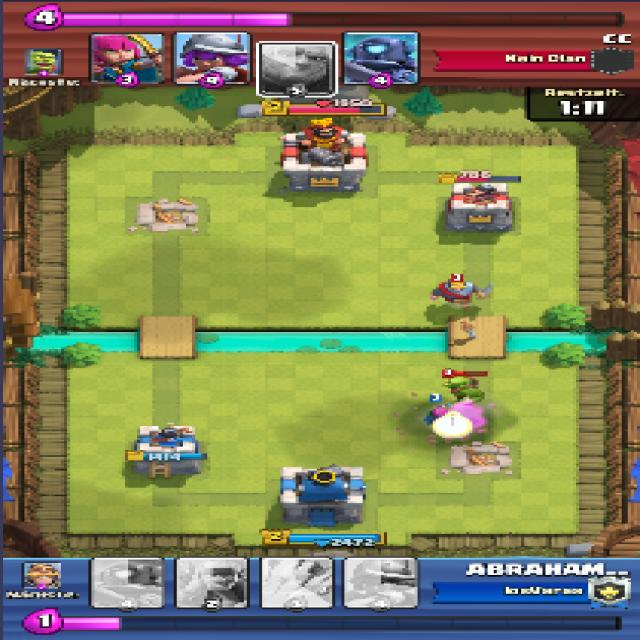Enemy-Knight: (423, 281, 494, 310)
Player-Archer: (420, 406, 449, 427)
Player-GoblinCage: (436, 374, 483, 406)
